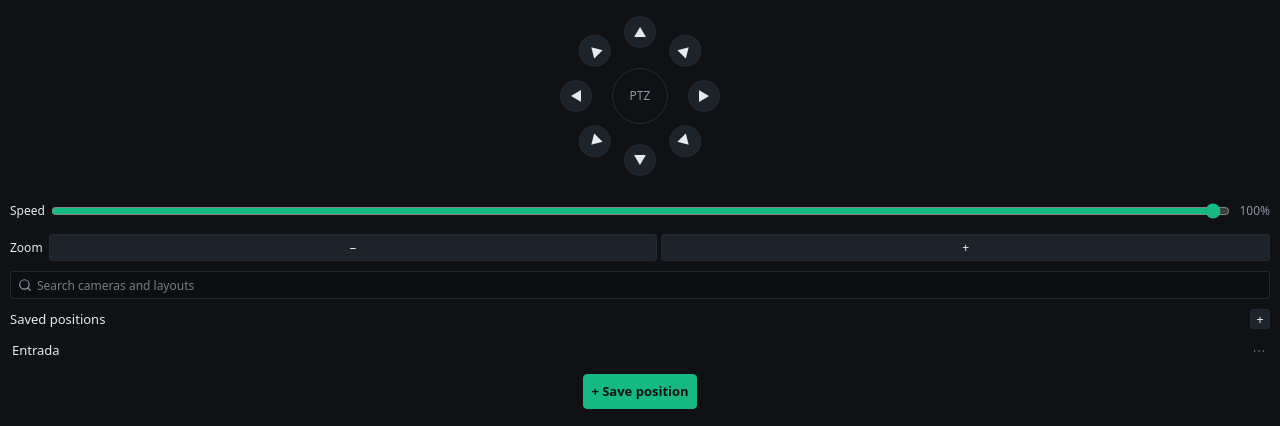
Test: PtzPanel (spec 2026-10-17) › with no match the empty-list message appears
Type "zzz" into the field named "Filter saved positions" at [640, 285], box [10,271,1270,299]
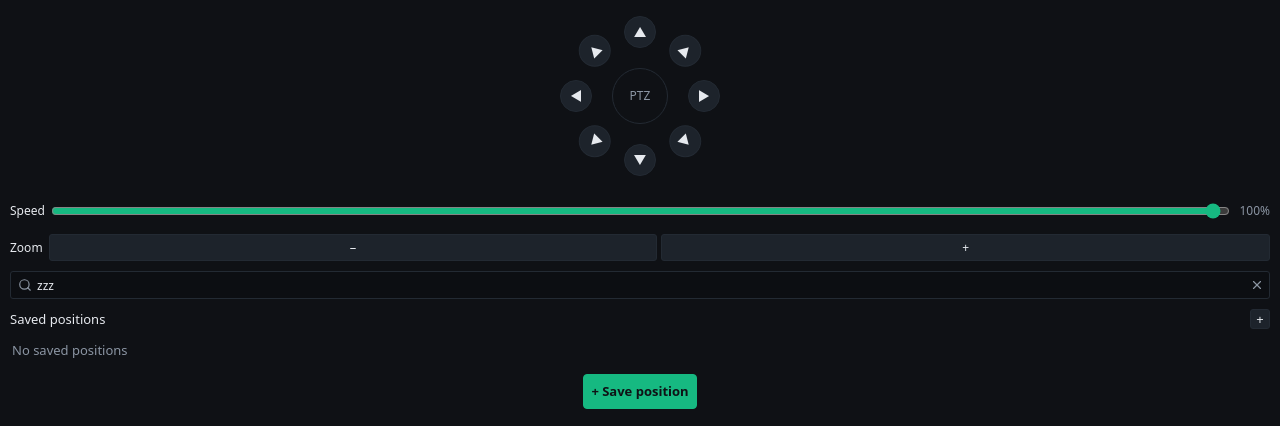
expect the list item "No saved positions" is shown: met, box [12,341,128,359]
expect the text "Entrada" is gone: met
